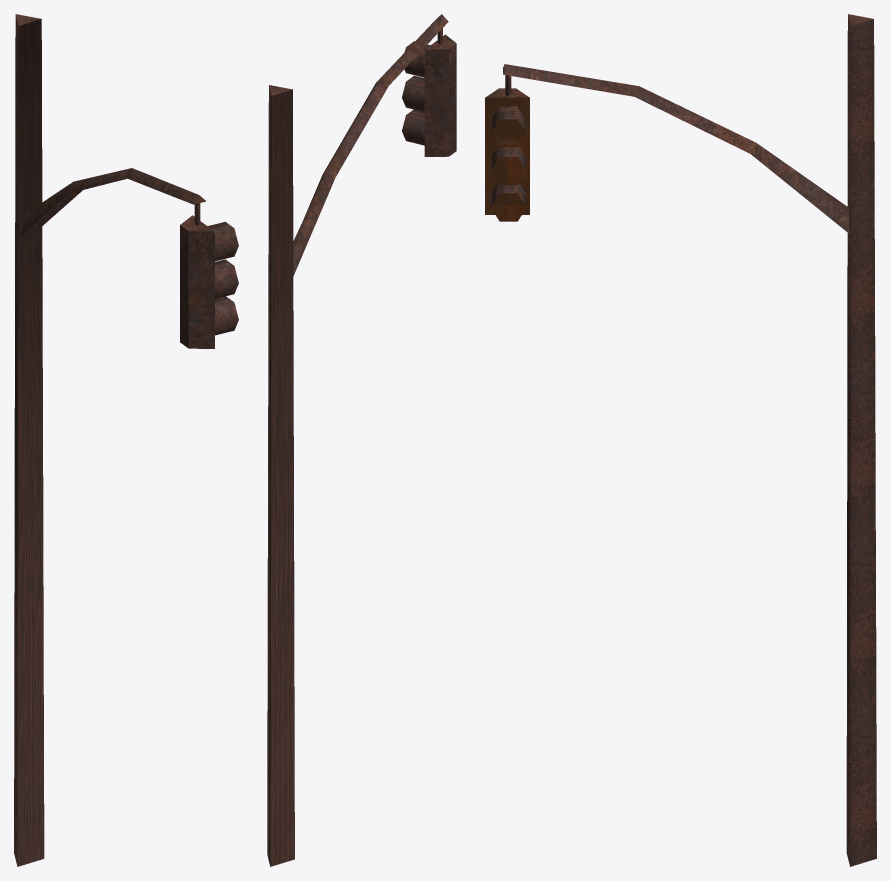
File: SM_Lamppost_trafficlight.FBX
The picture shows the model from 3 angles, left to right: view 1: azimuth 30°, elevation 25°; view 2: azimuth 150°, elevation 25°; view 3: azimuth 270°, elevation 25°; orthographic projection. The views are drawn at different scales.
Parts seen in each view (by area): view 1: SM_Lamppost_trafficlight; view 2: SM_Lamppost_trafficlight; view 3: SM_Lamppost_trafficlight.
Boxes of the visible parts, bbox=[...] form: SM_Lamppost_trafficlight: bbox=[14, 14, 238, 866]; SM_Lamppost_trafficlight: bbox=[267, 14, 456, 866]; SM_Lamppost_trafficlight: bbox=[485, 14, 876, 866].
Bounding box in the file's own units: 18.73 × 138 × 326.
